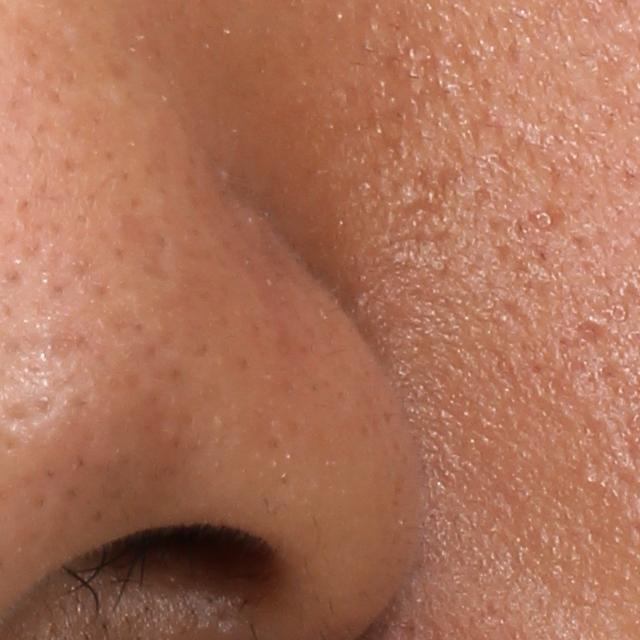atrophic_scar: (114, 206, 169, 287), (575, 318, 619, 359)
comedo: (531, 206, 554, 232)
